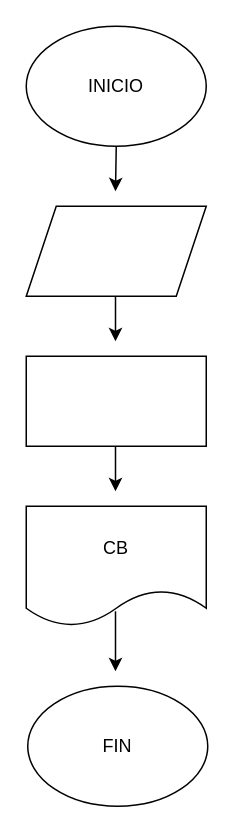
This 234x833 diagram has some shape labels left out. Each missing label, with the box of its shape:
CB= K * CK: (25, 355, 206, 446)
K , CK: (25, 205, 206, 296)
